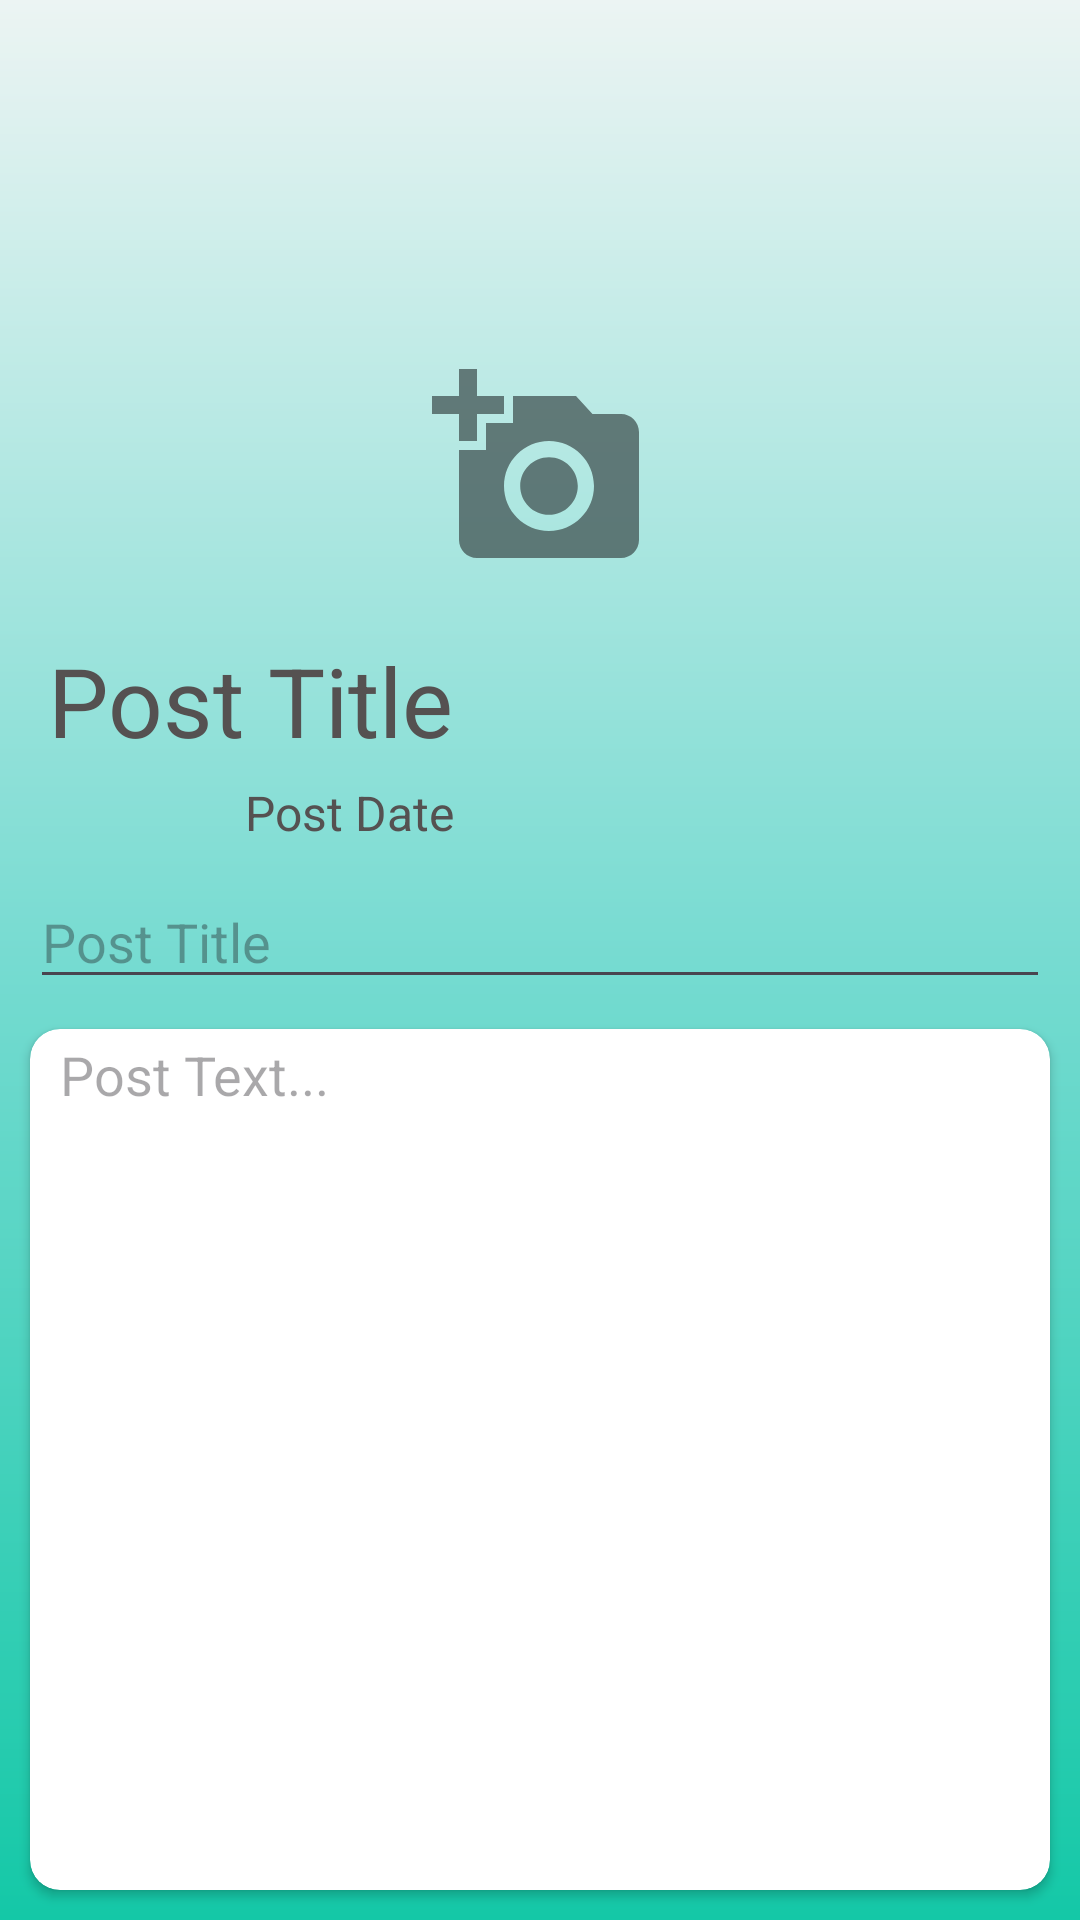

Locate icon controls on the screen. Image size 1080 x 1920, boxes as Rect(x1, y1, x2, y2).
add photo: Rect(459, 396, 639, 558)
